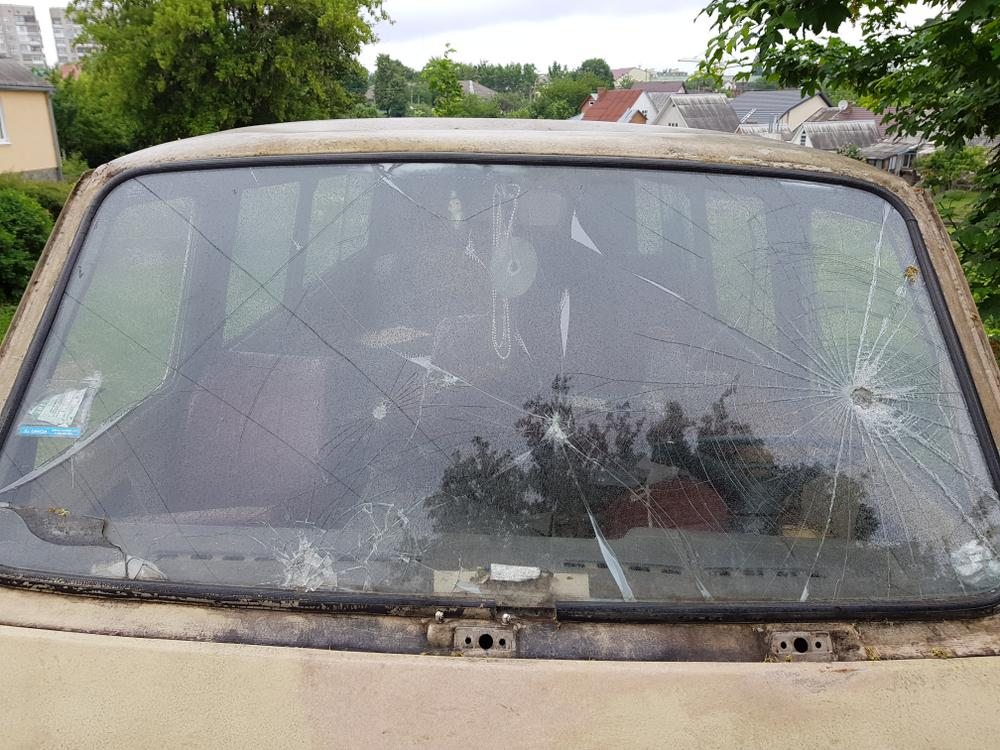glass shatter: (0, 161, 1000, 601)
